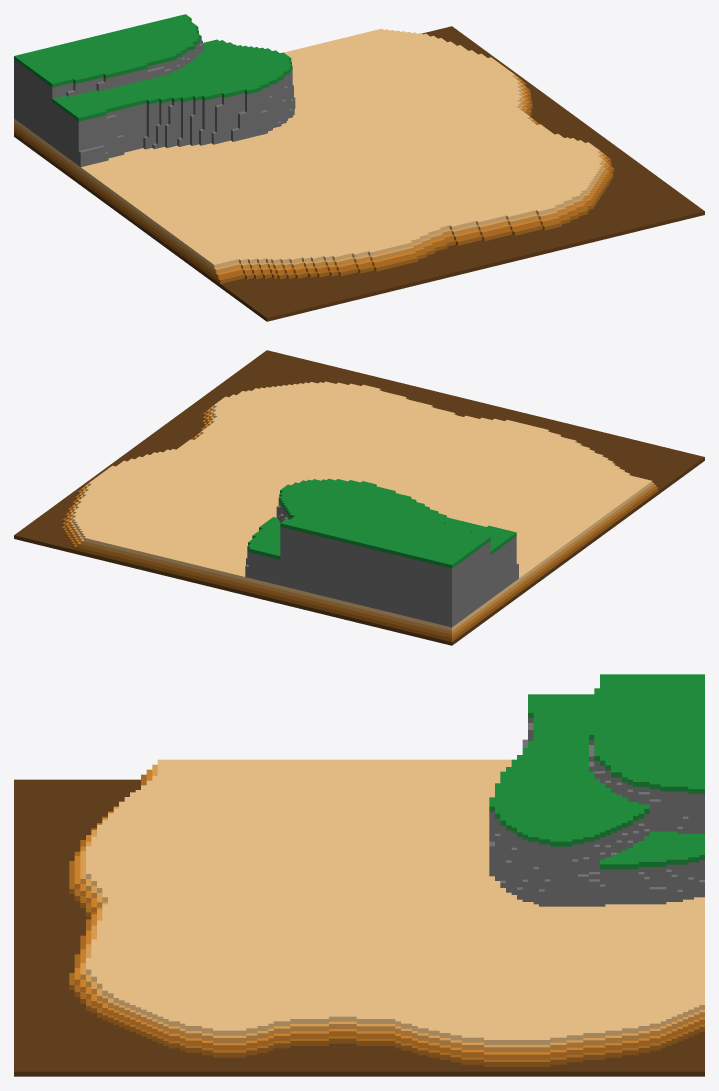
Rendered from Terrain 9.obj.
3 views of the same model, one above another, from view 1: azimuth 30°, elevation 25°; view 2: azimuth 150°, elevation 25°; view 3: azimuth 270°, elevation 25° (orthographic). The views are drawn at different scales.
Visible parts, largest first — view 1: Terrain 9; view 2: Terrain 9; view 3: Terrain 9.
Part boxes in pixels (x1,y1,x2,y2): Terrain 9: (14, 14, 704, 321); Terrain 9: (14, 350, 704, 645); Terrain 9: (14, 674, 704, 1076).
Size of the model in its own units: 125 by 22 by 125.
Materials: 1 (1 with a texture image).
